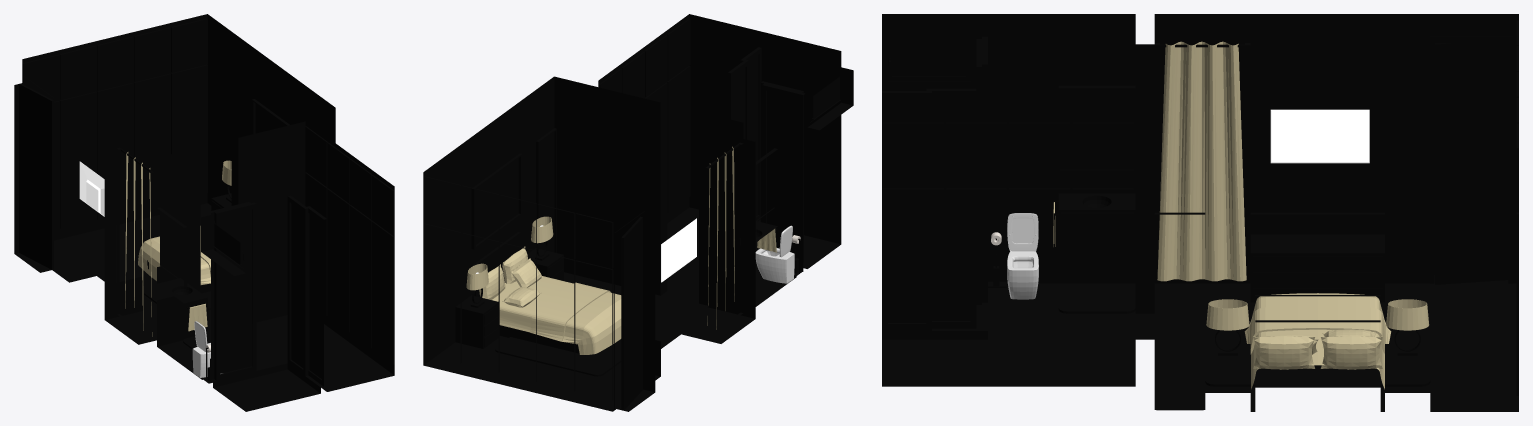
File: cuarto.gltf
The picture shows the model from 3 angles, left to right: view 1: azimuth 30°, elevation 25°; view 2: azimuth 150°, elevation 25°; view 3: azimuth 270°, elevation 25°; orthographic projection. The views are drawn at different scales.
Visible parts, largest first — view 1: Cuarto, Tambor, Cortina (×2), Cobijas, TV, a; view 2: Cuarto, Cobijas, Tambor, Almohada (×4), TV, a, Cortina, Mascara, Mascara.1; view 3: Cuarto, Cortina, Tambor, Cobijas, TV, Almohada (×2), a, Mascara.1, Mascara, g_1.
Part boxes in pixels (x1,y1,x2,y2): Cuarto: (14,14,394,411); Tambor: (19,83,53,269); Cortina (×2): (125,152,207,336); Cobijas: (138,226,210,284); TV: (79,161,104,216); a: (192,343,222,377); Cuarto: (423,14,853,411); Cobijas: (492,276,621,354); Tambor: (621,216,642,410); Almohada (×4): (479,246,542,307); TV: (661,218,696,282); a: (755,248,794,283); Cortina: (707,146,734,329); Mascara: (466,263,488,290); Mascara.1: (531,216,553,243); Cuarto: (882,14,1518,411); Cortina: (1157,41,1246,281); Tambor: (1435,43,1508,284); Cobijas: (1244,293,1391,389); TV: (1270,109,1369,163); Almohada (×2): (1253,336,1382,369); a: (1007,251,1038,299); Mascara.1: (1206,299,1249,330); Mascara: (1386,299,1429,330); g_1: (1007,213,1038,251).
Size of what is drawn, in the model's own units: 360 by 330 by 707.
